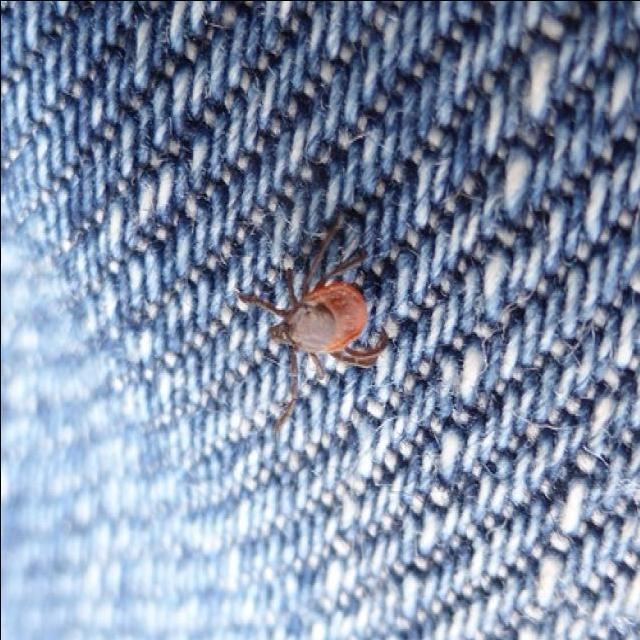Ixodes Ricinus-F: (237, 212, 388, 432)
